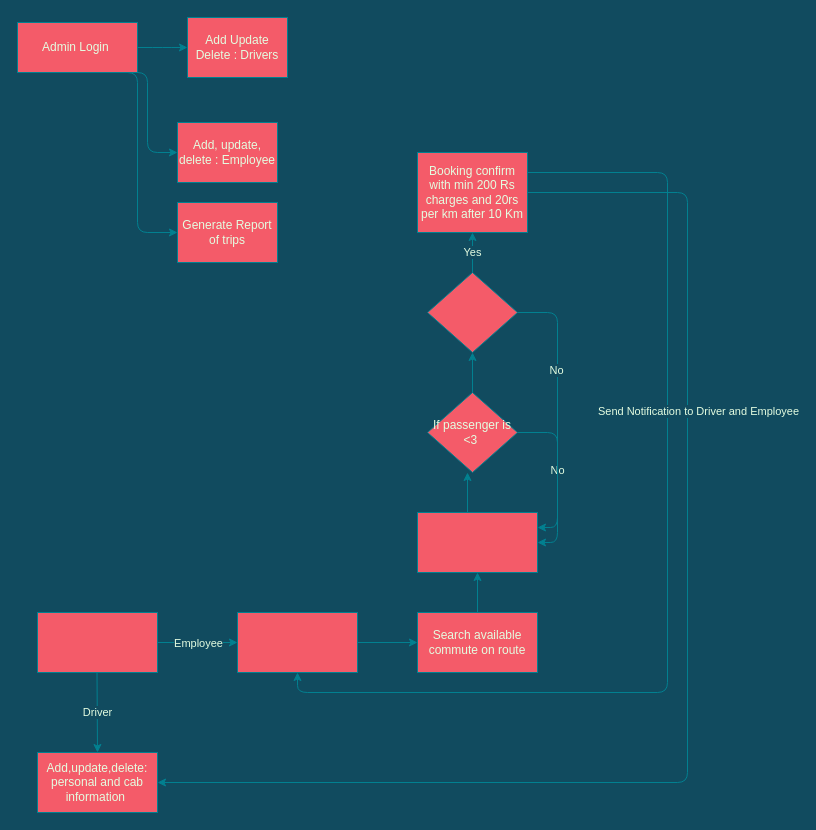
This 816x830 diagram has some shape labels left out. The shapes that lost their labels are listed below. From the top down, each one's box as (x1, y1, x2, y2) in pixels, then its label:
(426, 272, 518, 352): Check Drivers Acceptance
(416, 512, 538, 572): Book available commute on the route
(36, 612, 158, 672): Employee / Driver Login
(236, 612, 358, 672): Add , Edit , update: personal information (Home and office Address
